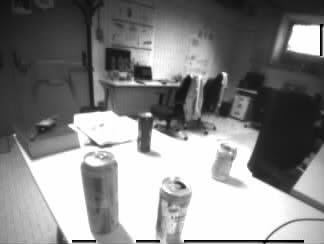Tin can: (79, 150, 120, 233), (156, 177, 190, 243), (212, 144, 236, 181), (137, 112, 151, 152)
